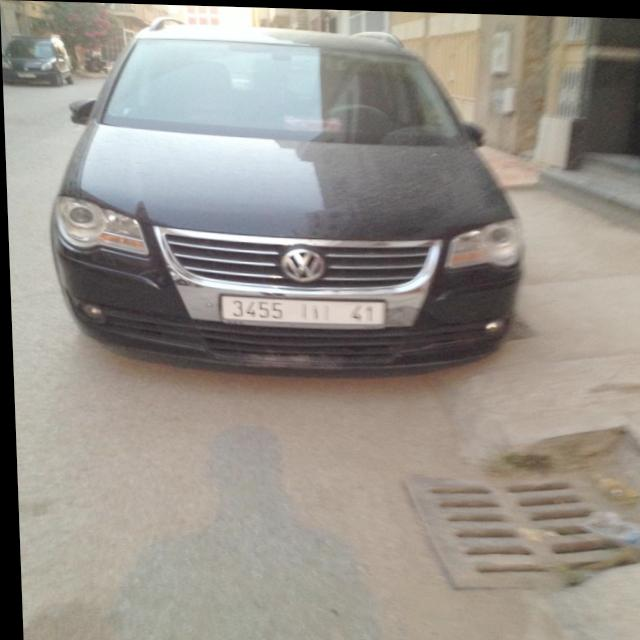License-Plate: (218, 294, 383, 325)
